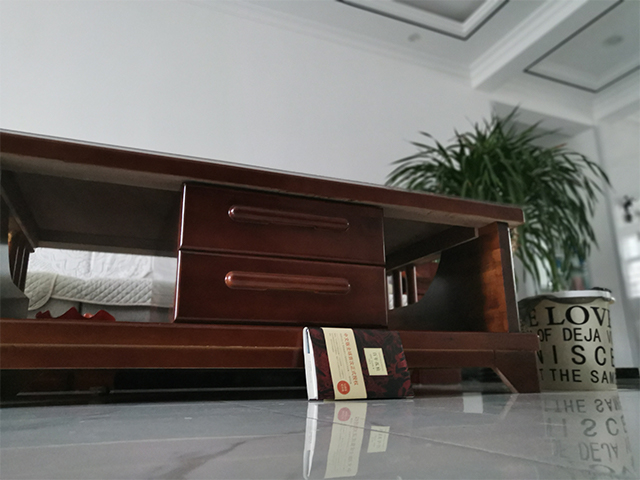book: (300, 325, 414, 403)
table: (1, 127, 543, 396)
trashcan: (516, 288, 619, 394)
